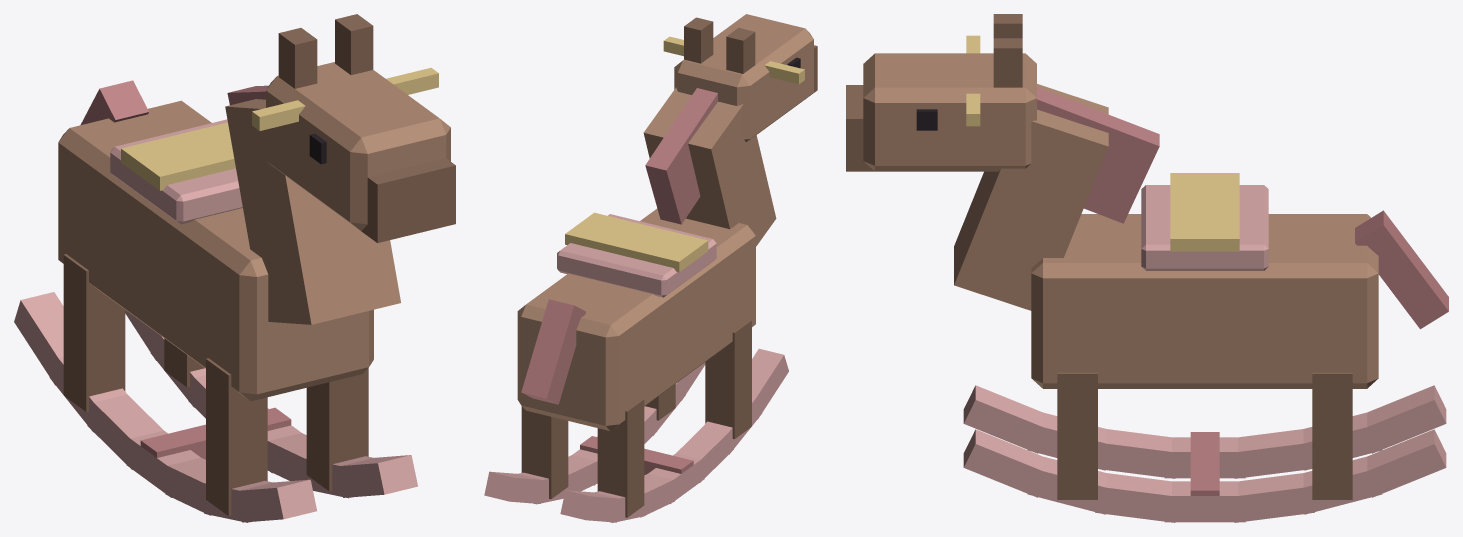
The model's file is sb_rocking_horse.glb.
3 views of the same model, side by side, from view 1: azimuth 30°, elevation 25°; view 2: azimuth 150°, elevation 25°; view 3: azimuth 270°, elevation 25° (orthographic). The views are drawn at different scales.
Visible parts, largest first — view 1: rocking_horse; view 2: rocking_horse; view 3: rocking_horse.
Part boxes in pixels (bbox=[...]): rocking_horse: bbox=[14, 14, 455, 522]; rocking_horse: bbox=[484, 14, 817, 522]; rocking_horse: bbox=[846, 14, 1448, 522].
Bounding box in the file's own units: 0.336 × 0.9254 × 1.09.
